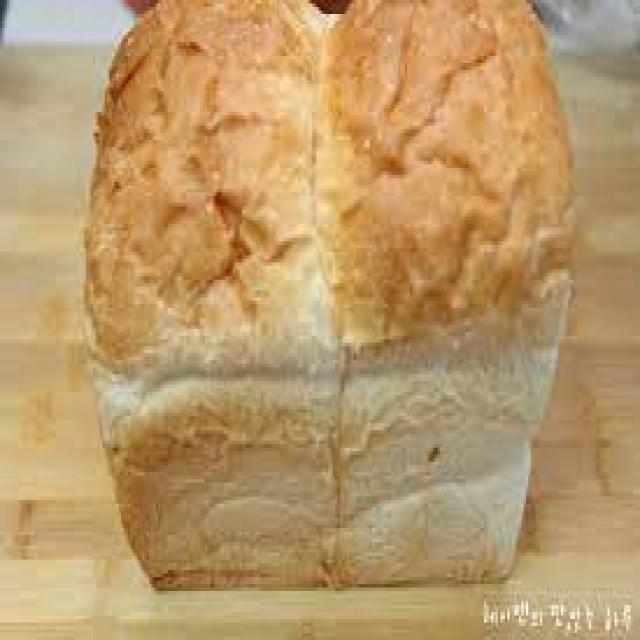bread: (84, 0, 576, 586)
